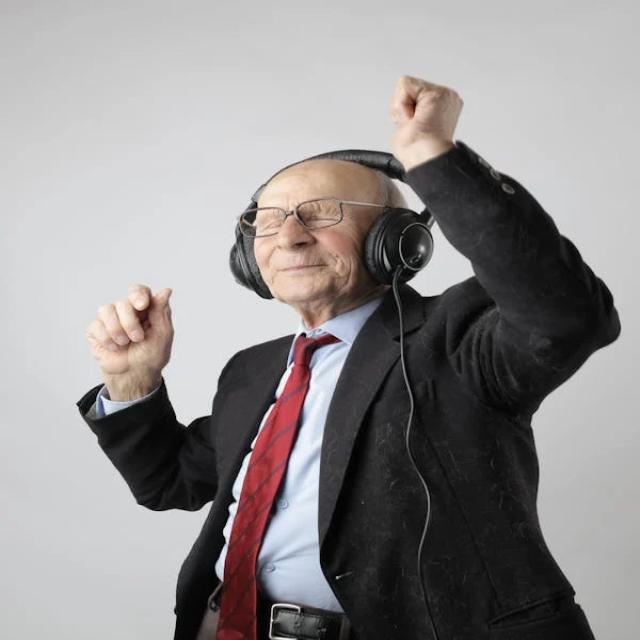Real human 2: (79, 77, 624, 640)
